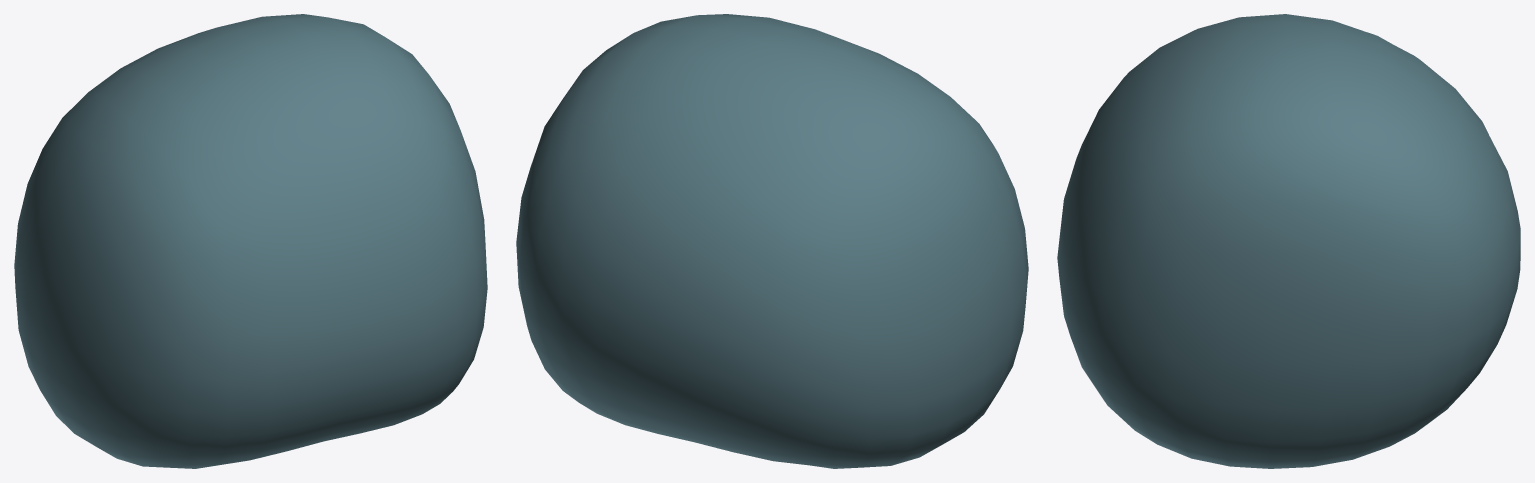
The model's file is Rock_C_01.fbx.
3 views of the same model, side by side, from view 1: azimuth 30°, elevation 25°; view 2: azimuth 150°, elevation 25°; view 3: azimuth 270°, elevation 25° (orthographic). The views are drawn at different scales.
Visible parts, largest first — view 1: Rock_C_01_LOD0; view 2: Rock_C_01_LOD0; view 3: Rock_C_01_LOD0.
Part boxes in pixels (x1,y1,x2,y2): Rock_C_01_LOD0: [14, 14, 487, 468]; Rock_C_01_LOD0: [516, 14, 1028, 468]; Rock_C_01_LOD0: [1057, 14, 1520, 468].
Size of what is drawn, in the model's own units: 419 by 359 by 407.
